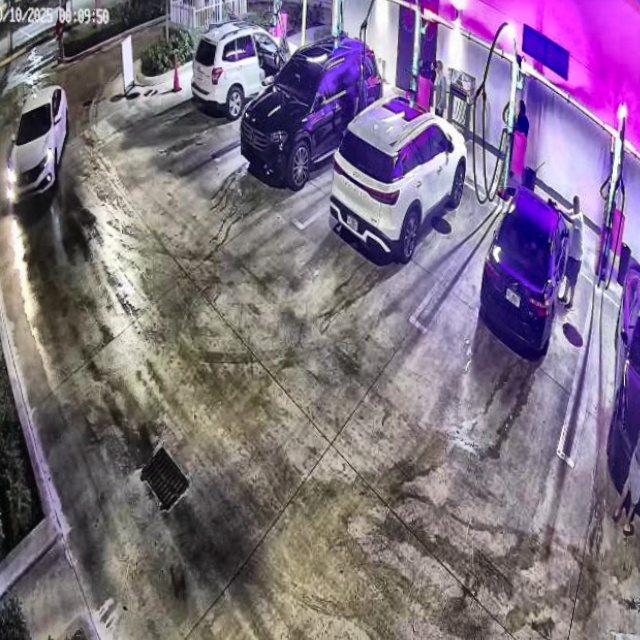Car: (236, 30, 381, 182), (338, 98, 466, 263), (474, 186, 566, 359)
